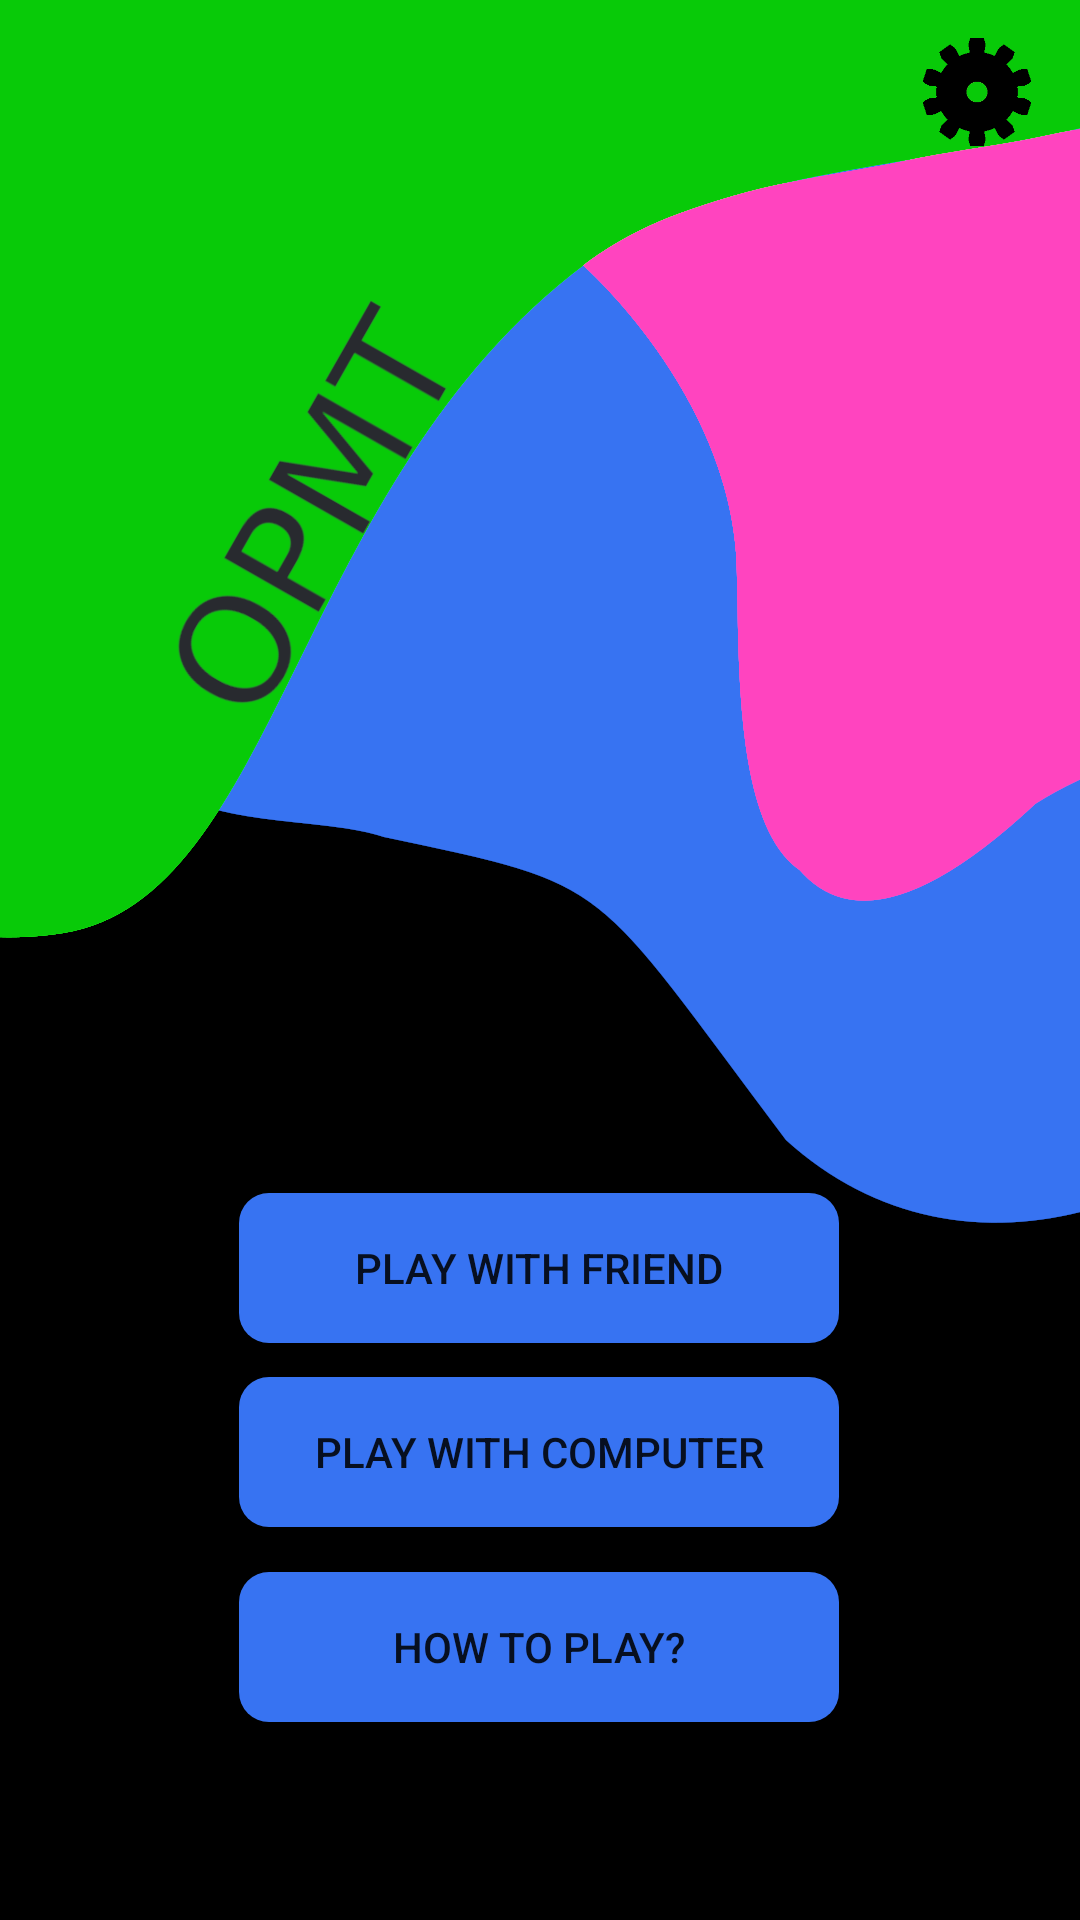

Icons on this 1080 x 1920 Android screen, each with its box as detection(x1, y1, x2, y2):
gear: detection(923, 38, 1031, 146)
